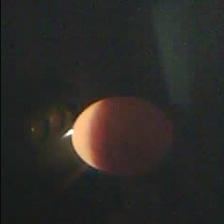fertile: (68, 96, 176, 176)
